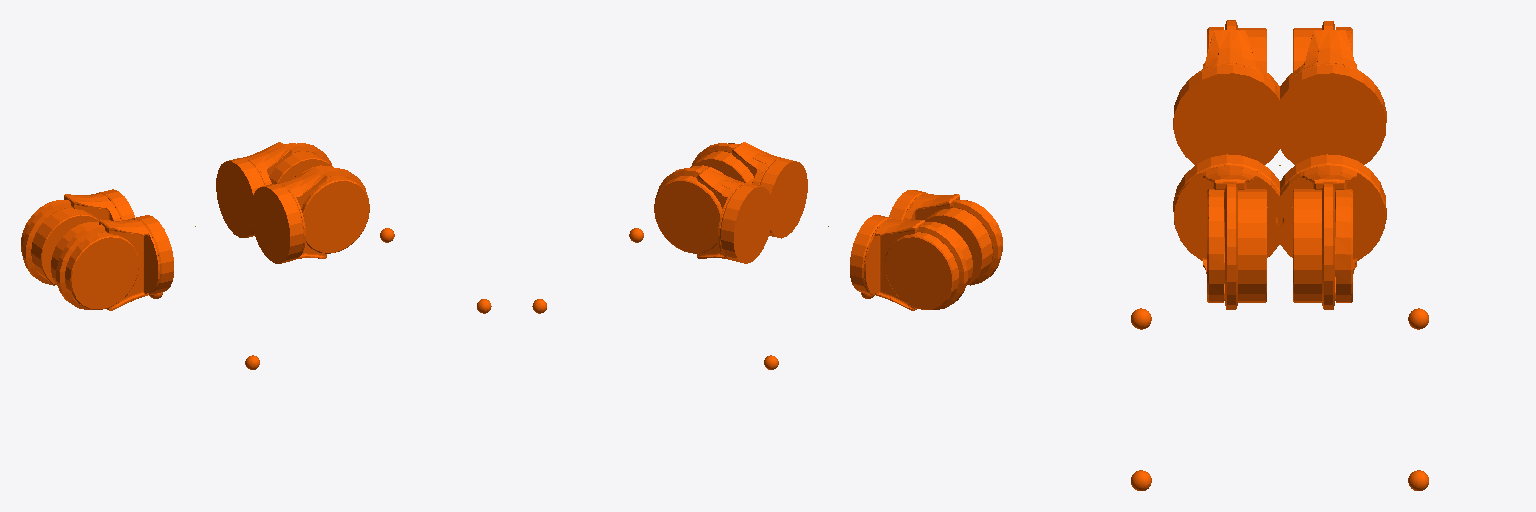
--- Facts derived from the render (not from the file) ---
3 views of the same robot in one strip: view 1: azimuth 30°, elevation 25°; view 2: azimuth 150°, elevation 25°; view 3: azimuth 270°, elevation 25° (orthographic).
Robot: a1 — 23 links, 22 joints (12 revolute, 10 fixed); root link base; default pose: joints at zero except 4 at the middle of their limits (FR_calf_joint = -1.81, FL_calf_joint = -1.81, RR_calf_joint = -1.81, RL_calf_joint = -1.81).
Visible links, largest first — view 1: RR_hip, FR_hip, FL_hip, RL_hip; view 2: RL_hip, FL_hip, FR_hip, RR_hip; view 3: FR_hip, FL_hip, RR_hip, RL_hip.
Link boxes in pixels (x1,y1,x2,y2): RR_hip: [51, 215, 173, 310]; FR_hip: [251, 165, 369, 263]; FL_hip: [216, 142, 333, 237]; RL_hip: [21, 189, 134, 285]; RL_hip: [850, 215, 972, 310]; FL_hip: [654, 165, 772, 263]; FR_hip: [690, 142, 807, 238]; RR_hip: [889, 190, 1002, 285]; FR_hip: [1173, 154, 1292, 309]; FL_hip: [1267, 154, 1386, 309]; RR_hip: [1173, 20, 1286, 164]; RL_hip: [1274, 21, 1386, 164].
Size in the robot's own frame: 0.6254 by 0.2816 by 0.2264 metres.
4 mesh visuals loaded from 5 distinct referenced files (1 Collada DAE); not drawn: 9 (reference not matched to a file when rendering).

The robot description file, URDF, robot "a1":
<?xml version="1.0" encoding="utf-8"?>
<!-- =================================================================================== -->
<!-- |    This document was autogenerated by xacro from robot.xacro                    | -->
<!-- |    EDITING THIS FILE BY HAND IS NOT RECOMMENDED                                 | -->
<!-- =================================================================================== -->
<robot name="a1">
  <!-- dynamics inertial value -->
  <!-- trunk -->
  <!-- <xacro:property name="trunk_mass" value="5.660"/>
    <xacro:property name="trunk_com_x" value="0.012731"/>
    <xacro:property name="trunk_com_y" value="0.002186"/>
    <xacro:property name="trunk_com_z" value="0.000515"/>
    <xacro:property name="trunk_ixx" value="0.016839930"/>
    <xacro:property name="trunk_ixy" value="0.000083902"/>
    <xacro:property name="trunk_ixz" value="0.000597679"/>
    <xacro:property name="trunk_iyy" value="0.056579028"/>
    <xacro:property name="trunk_iyz" value="0.000025134"/>
    <xacro:property name="trunk_izz" value="0.064713601"/> -->
  <material name="black">
    <color rgba="0.0 0.0 0.0 1.0"/>
  </material>
  <material name="blue">
    <color rgba="0.0 0.0 0.8 1.0"/>
  </material>
  <material name="green">
    <color rgba="0.0 0.8 0.0 1.0"/>
  </material>
  <material name="grey">
    <color rgba="0.2 0.2 0.2 1.0"/>
  </material>
  <material name="silver">
    <color rgba="0.913725490196 0.913725490196 0.847058823529 1.0"/>
  </material>
  <material name="orange">
    <color rgba="1.0 0.423529411765 0.0392156862745 1.0"/>
  </material>
  <material name="brown">
    <color rgba="0.870588235294 0.811764705882 0.764705882353 1.0"/>
  </material>
  <material name="red">
    <color rgba="0.8 0.0 0.0 1.0"/>
  </material>
  <material name="white">
    <color rgba="1.0 1.0 1.0 1.0"/>
  </material>
  
  <link name="base">
    <visual>
      <origin rpy="0 0 0" xyz="0 0 0"/>
      <geometry>
        <box size="0.001 0.001 0.001"/>
      </geometry>
    </visual>
  </link>
  <joint name="floating_base" type="fixed">
    <origin rpy="0 0 0" xyz="0 0 0"/>
    <parent link="base"/>
    <child link="trunk"/>
  </joint>
  <link name="trunk">
    <visual>
      <origin rpy="0 0 0" xyz="0 0 0"/>
      <geometry>
        <mesh filename="package://a1_description/meshes/trunk.dae" scale="1 1 1"/>
      </geometry>
      <material name="orange"/>
    </visual>
    <collision>
      <origin rpy="0 0 0" xyz="0 0 0"/>
      <geometry>
        <box size="0.267 0.194 0.114"/>
      </geometry>
    </collision>
    <inertial>
      <origin rpy="0 0 0" xyz="0.0 0.0041 -0.0005"/>
      <mass value="6.0"/>
      <inertia ixx="0.0158533" ixy="-3.66e-05" ixz="-6.11e-05" iyy="0.0377999" iyz="-2.75e-05" izz="0.0456542"/>
    </inertial>
  </link>
  <joint name="imu_joint" type="fixed">
    <parent link="trunk"/>
    <child link="imu_link"/>
    <origin rpy="0 0 0" xyz="0 0 0"/>
  </joint>
  <link name="imu_link">
    <inertial>
      <mass value="0.001"/>
      <origin rpy="0 0 0" xyz="0 0 0"/>
      <inertia ixx="0.0001" ixy="0" ixz="0" iyy="0.0001" iyz="0" izz="0.0001"/>
    </inertial>
    <visual>
      <origin rpy="0 0 0" xyz="0 0 0"/>
      <geometry>
        <box size="0.001 0.001 0.001"/>
      </geometry>
      <material name="red"/>
    </visual>
    <collision>
      <origin rpy="0 0 0" xyz="0 0 0"/>
      <geometry>
        <box size=".001 .001 .001"/>
      </geometry>
    </collision>
  </link>
  <joint name="FR_hip_joint" type="revolute">
    <origin rpy="0 0 0" xyz="0.1805 -0.047 0"/>
    <parent link="trunk"/>
    <child link="FR_hip"/>
    <axis xyz="1 0 0"/>
    <dynamics damping="0.01" friction="0.2"/>
    <limit effort="33.5" lower="-0.802851455917" upper="0.802851455917" velocity="21"/>
  </joint>
  <link name="FR_hip">
    <visual>
      <origin rpy="3.14159265359 0 0" xyz="0 0 0"/>
      <geometry>
        <mesh filename="package://a1_description/meshes/hip.dae" scale="1 1 1"/>
      </geometry>
      <material name="orange"/>
    </visual>
    <collision>
      <origin rpy="1.57079632679 0 0" xyz="0 0 0"/>
      <geometry>
        <cylinder length="0.04" radius="0.046"/>
      </geometry>
    </collision>
    <inertial>
      <origin rpy="0 0 0" xyz="-0.003311 -0.000635 3.1e-05"/>
      <mass value="0.696"/>
      <inertia ixx="0.000469246" ixy="9.409e-06" ixz="-3.42e-07" iyy="0.00080749" iyz="4.66e-07" izz="0.000552929"/>
    </inertial>
  </link>
  <joint name="FR_hip_fixed" type="fixed">
    <origin rpy="0 0 0" xyz="0 -0.081 0"/>
    <parent link="FR_hip"/>
    <child link="FR_thigh_shoulder"/>
  </joint>
  <!-- this link is only for collision -->
  <link name="FR_thigh_shoulder">
    <collision>
      <origin rpy="1.57079632679 0 0" xyz="0 0 0"/>
      <geometry>
        <cylinder length="0.032" radius="0.041"/>
      </geometry>
    </collision>
  </link>
  <joint name="FR_thigh_joint" type="revolute">
    <origin rpy="0 0 0" xyz="0 -0.0838 0"/>
    <parent link="FR_hip"/>
    <child link="FR_thigh"/>
    <axis xyz="0 1 0"/>
    <dynamics damping="0.01" friction="0.2"/>
    <limit effort="33.5" lower="-1.0471975512" upper="4.18879020479" velocity="21"/>
  </joint>
  <link name="FR_thigh">
    <visual>
      <origin rpy="0 0 0" xyz="0 0 0"/>
      <geometry>
        <mesh filename="package://a1_description/meshes/thigh_mirror.dae" scale="1 1 1"/>
      </geometry>
      <material name="orange"/>
    </visual>
    <collision>
      <origin rpy="0 1.57079632679 0" xyz="0 0 -0.1"/>
      <geometry>
        <box size="0.2 0.0245 0.034"/>
      </geometry>
    </collision>
    <inertial>
      <origin rpy="0 0 0" xyz="-0.003237 0.022327 -0.027326"/>
      <mass value="1.013"/>
      <inertia ixx="0.005529065" ixy="-4.825e-06" ixz="0.000343869" iyy="0.005139339" iyz="-2.2448e-05" izz="0.001367788"/>
    </inertial>
  </link>
  <joint name="FR_calf_joint" type="revolute">
    <origin rpy="0 0 0" xyz="0 0 -0.2"/>
    <parent link="FR_thigh"/>
    <child link="FR_calf"/>
    <axis xyz="0 1 0"/>
    <dynamics damping="0.01" friction="0.2"/>
    <limit effort="33.5" lower="-2.69653369433" upper="-0.916297857297" velocity="21"/>
  </joint>
  <link name="FR_calf">
    <visual>
      <origin rpy="0 0 0" xyz="0 0 0"/>
      <geometry>
        <mesh filename="package://a1_description/meshes/calf.dae" scale="1 1 1"/>
      </geometry>
      <material name="orange"/>
    </visual>
    <collision>
      <origin rpy="0 1.57079632679 0" xyz="0 0 -0.1"/>
      <geometry>
        <box size="0.2 0.016 0.016"/>
      </geometry>
    </collision>
    <inertial>
      <origin rpy="0 0 0" xyz="0.006435 0.0 -0.107388"/>
      <mass value="0.166"/>
      <inertia ixx="0.002997972" ixy="0.0" ixz="-0.000141163" iyy="0.003014022" iyz="0.0" izz="3.2426e-05"/>
    </inertial>
  </link>
  <joint name="FR_foot_fixed" type="fixed">
    <origin rpy="0 0 0" xyz="0 0 -0.2"/>
    <parent link="FR_calf"/>
    <child link="FR_foot"/>
  </joint>
  <link name="FR_foot">
    <visual>
      <origin rpy="0 0 0" xyz="0 0 0"/>
      <geometry>
        <sphere radius="0.01"/>
      </geometry>
      <material name="orange"/>
    </visual>
    <collision>
      <origin rpy="0 0 0" xyz="0 0 0"/>
      <geometry>
        <sphere radius="0.02"/>
      </geometry>
    </collision>
    <inertial>
      <mass value="0.06"/>
      <inertia ixx="9.6e-06" ixy="0.0" ixz="0.0" iyy="9.6e-06" iyz="0.0" izz="9.6e-06"/>
    </inertial>
  </link>
  <transmission name="FR_hip_tran">
    <type>transmission_interface/SimpleTransmission</type>
    <joint name="FR_hip_joint">
      <hardwareInterface>hardware_interface/EffortJointInterface</hardwareInterface>
    </joint>
    <actuator name="FR_hip_motor">
      <hardwareInterface>hardware_interface/EffortJointInterface</hardwareInterface>
      <mechanicalReduction>1</mechanicalReduction>
    </actuator>
  </transmission>
  <transmission name="FR_thigh_tran">
    <type>transmission_interface/SimpleTransmission</type>
    <joint name="FR_thigh_joint">
      <hardwareInterface>hardware_interface/EffortJointInterface</hardwareInterface>
    </joint>
    <actuator name="FR_thigh_motor">
      <hardwareInterface>hardware_interface/EffortJointInterface</hardwareInterface>
      <mechanicalReduction>1</mechanicalReduction>
    </actuator>
  </transmission>
  <transmission name="FR_calf_tran">
    <type>transmission_interface/SimpleTransmission</type>
    <joint name="FR_calf_joint">
      <hardwareInterface>hardware_interface/EffortJointInterface</hardwareInterface>
    </joint>
    <actuator name="FR_calf_motor">
      <hardwareInterface>hardware_interface/EffortJointInterface</hardwareInterface>
      <mechanicalReduction>1</mechanicalReduction>
    </actuator>
  </transmission>
  <joint name="FL_hip_joint" type="revolute">
    <origin rpy="0 0 0" xyz="0.1805 0.047 0"/>
    <parent link="trunk"/>
    <child link="FL_hip"/>
    <axis xyz="1 0 0"/>
    <dynamics damping="0.01" friction="0.2"/>
    <limit effort="33.5" lower="-0.802851455917" upper="0.802851455917" velocity="21"/>
  </joint>
  <link name="FL_hip">
    <visual>
      <origin rpy="0 0 0" xyz="0 0 0"/>
      <geometry>
        <mesh filename="package://a1_description/meshes/hip.dae" scale="1 1 1"/>
      </geometry>
      <material name="orange"/>
    </visual>
    <collision>
      <origin rpy="1.57079632679 0 0" xyz="0 0 0"/>
      <geometry>
        <cylinder length="0.04" radius="0.046"/>
      </geometry>
    </collision>
    <inertial>
      <origin rpy="0 0 0" xyz="-0.003311 0.000635 3.1e-05"/>
      <mass value="0.696"/>
      <inertia ixx="0.000469246" ixy="-9.409e-06" ixz="-3.42e-07" iyy="0.00080749" iyz="-4.66e-07" izz="0.000552929"/>
    </inertial>
  </link>
  <joint name="FL_hip_fixed" type="fixed">
    <origin rpy="0 0 0" xyz="0 0.081 0"/>
    <parent link="FL_hip"/>
    <child link="FL_thigh_shoulder"/>
  </joint>
  <!-- this link is only for collision -->
  <link name="FL_thigh_shoulder">
    <collision>
      <origin rpy="1.57079632679 0 0" xyz="0 0 0"/>
      <geometry>
        <cylinder length="0.032" radius="0.041"/>
      </geometry>
    </collision>
  </link>
  <joint name="FL_thigh_joint" type="revolute">
    <origin rpy="0 0 0" xyz="0 0.0838 0"/>
    <parent link="FL_hip"/>
    <child link="FL_thigh"/>
    <axis xyz="0 1 0"/>
    <dynamics damping="0.01" friction="0.2"/>
    <limit effort="33.5" lower="-1.0471975512" upper="4.18879020479" velocity="21"/>
  </joint>
  <link name="FL_thigh">
    <visual>
      <origin rpy="0 0 0" xyz="0 0 0"/>
      <geometry>
        <mesh filename="package://a1_description/meshes/thigh.dae" scale="1 1 1"/>
      </geometry>
      <material name="orange"/>
    </visual>
    <collision>
      <origin rpy="0 1.57079632679 0" xyz="0 0 -0.1"/>
      <geometry>
        <box size="0.2 0.0245 0.034"/>
      </geometry>
    </collision>
    <inertial>
      <origin rpy="0 0 0" xyz="-0.003237 -0.022327 -0.027326"/>
      <mass value="1.013"/>
      <inertia ixx="0.005529065" ixy="4.825e-06" ixz="0.000343869" iyy="0.005139339" iyz="2.2448e-05" izz="0.001367788"/>
    </inertial>
  </link>
  <joint name="FL_calf_joint" type="revolute">
    <origin rpy="0 0 0" xyz="0 0 -0.2"/>
    <parent link="FL_thigh"/>
    <child link="FL_calf"/>
    <axis xyz="0 1 0"/>
    <dynamics damping="0.01" friction="0.2"/>
    <limit effort="33.5" lower="-2.69653369433" upper="-0.916297857297" velocity="21"/>
  </joint>
  <link name="FL_calf">
    <visual>
      <origin rpy="0 0 0" xyz="0 0 0"/>
      <geometry>
        <mesh filename="package://a1_description/meshes/calf.dae" scale="1 1 1"/>
      </geometry>
      <material name="orange"/>
    </visual>
    <collision>
      <origin rpy="0 1.57079632679 0" xyz="0 0 -0.1"/>
      <geometry>
        <box size="0.2 0.016 0.016"/>
      </geometry>
    </collision>
    <inertial>
      <origin rpy="0 0 0" xyz="0.006435 0.0 -0.107388"/>
      <mass value="0.166"/>
      <inertia ixx="0.002997972" ixy="0.0" ixz="-0.000141163" iyy="0.003014022" iyz="0.0" izz="3.2426e-05"/>
    </inertial>
  </link>
  <joint name="FL_foot_fixed" type="fixed">
    <origin rpy="0 0 0" xyz="0 0 -0.2"/>
    <parent link="FL_calf"/>
    <child link="FL_foot"/>
  </joint>
  <link name="FL_foot">
    <visual>
      <origin rpy="0 0 0" xyz="0 0 0"/>
      <geometry>
        <sphere radius="0.01"/>
      </geometry>
      <material name="orange"/>
    </visual>
    <collision>
      <origin rpy="0 0 0" xyz="0 0 0"/>
      <geometry>
        <sphere radius="0.02"/>
      </geometry>
    </collision>
    <inertial>
      <mass value="0.06"/>
      <inertia ixx="9.6e-06" ixy="0.0" ixz="0.0" iyy="9.6e-06" iyz="0.0" izz="9.6e-06"/>
    </inertial>
  </link>
  <transmission name="FL_hip_tran">
    <type>transmission_interface/SimpleTransmission</type>
    <joint name="FL_hip_joint">
      <hardwareInterface>hardware_interface/EffortJointInterface</hardwareInterface>
    </joint>
    <actuator name="FL_hip_motor">
      <hardwareInterface>hardware_interface/EffortJointInterface</hardwareInterface>
      <mechanicalReduction>1</mechanicalReduction>
    </actuator>
  </transmission>
  <transmission name="FL_thigh_tran">
    <type>transmission_interface/SimpleTransmission</type>
    <joint name="FL_thigh_joint">
      <hardwareInterface>hardware_interface/EffortJointInterface</hardwareInterface>
    </joint>
    <actuator name="FL_thigh_motor">
      <hardwareInterface>hardware_interface/EffortJointInterface</hardwareInterface>
      <mechanicalReduction>1</mechanicalReduction>
    </actuator>
  </transmission>
  <transmission name="FL_calf_tran">
    <type>transmission_interface/SimpleTransmission</type>
    <joint name="FL_calf_joint">
      <hardwareInterface>hardware_interface/EffortJointInterface</hardwareInterface>
    </joint>
    <actuator name="FL_calf_motor">
      <hardwareInterface>hardware_interface/EffortJointInterface</hardwareInterface>
      <mechanicalReduction>1</mechanicalReduction>
    </actuator>
  </transmission>
  <joint name="RR_hip_joint" type="revolute">
    <origin rpy="0 0 0" xyz="-0.1805 -0.047 0"/>
    <parent link="trunk"/>
    <child link="RR_hip"/>
    <axis xyz="1 0 0"/>
    <dynamics damping="0.01" friction="0.2"/>
    <limit effort="33.5" lower="-0.802851455917" upper="0.802851455917" velocity="21"/>
  </joint>
  <link name="RR_hip">
    <visual>
      <origin rpy="3.14159265359 3.14159265359 0" xyz="0 0 0"/>
      <geometry>
        <mesh filename="package://a1_description/meshes/hip.dae" scale="1 1 1"/>
      </geometry>
      <material name="orange"/>
    </visual>
    <collision>
      <origin rpy="1.57079632679 0 0" xyz="0 0 0"/>
      <geometry>
        <cylinder length="0.04" radius="0.046"/>
      </geometry>
    </collision>
    <inertial>
      <origin rpy="0 0 0" xyz="0.003311 -0.000635 3.1e-05"/>
      <mass value="0.696"/>
      <inertia ixx="0.000469246" ixy="-9.409e-06" ixz="3.42e-07" iyy="0.00080749" iyz="4.66e-07" izz="0.000552929"/>
    </inertial>
  </link>
  <joint name="RR_hip_fixed" type="fixed">
    <origin rpy="0 0 0" xyz="0 -0.081 0"/>
    <parent link="RR_hip"/>
    <child link="RR_thigh_shoulder"/>
  </joint>
  <!-- this link is only for collision -->
  <link name="RR_thigh_shoulder">
    <collision>
      <origin rpy="1.57079632679 0 0" xyz="0 0 0"/>
      <geometry>
        <cylinder length="0.032" radius="0.041"/>
      </geometry>
    </collision>
  </link>
  <joint name="RR_thigh_joint" type="revolute">
    <origin rpy="0 0 0" xyz="0 -0.0838 0"/>
    <parent link="RR_hip"/>
    <child link="RR_thigh"/>
    <axis xyz="0 1 0"/>
    <dynamics damping="0.01" friction="0.2"/>
    <limit effort="33.5" lower="-1.0471975512" upper="4.18879020479" velocity="21"/>
  </joint>
  <link name="RR_thigh">
    <visual>
      <origin rpy="0 0 0" xyz="0 0 0"/>
      <geometry>
        <mesh filename="package://a1_description/meshes/thigh_mirror.dae" scale="1 1 1"/>
      </geometry>
      <material name="orange"/>
    </visual>
    <collision>
      <origin rpy="0 1.57079632679 0" xyz="0 0 -0.1"/>
      <geometry>
        <box size="0.2 0.0245 0.034"/>
      </geometry>
    </collision>
    <inertial>
      <origin rpy="0 0 0" xyz="-0.003237 0.022327 -0.027326"/>
      <mass value="1.013"/>
      <inertia ixx="0.005529065" ixy="-4.825e-06" ixz="0.000343869" iyy="0.005139339" iyz="-2.2448e-05" izz="0.001367788"/>
    </inertial>
  </link>
  <joint name="RR_calf_joint" type="revolute">
    <origin rpy="0 0 0" xyz="0 0 -0.2"/>
    <parent link="RR_thigh"/>
    <child link="RR_calf"/>
    <axis xyz="0 1 0"/>
    <dynamics damping="0.01" friction="0.2"/>
    <limit effort="33.5" lower="-2.69653369433" upper="-0.916297857297" velocity="21"/>
  </joint>
  <link name="RR_calf">
    <visual>
      <origin rpy="0 0 0" xyz="0 0 0"/>
      <geometry>
        <mesh filename="package://a1_description/meshes/calf.dae" scale="1 1 1"/>
      </geometry>
      <material name="orange"/>
    </visual>
    <collision>
      <origin rpy="0 1.57079632679 0" xyz="0 0 -0.1"/>
      <geometry>
        <box size="0.2 0.016 0.016"/>
      </geometry>
    </collision>
    <inertial>
      <origin rpy="0 0 0" xyz="0.006435 0.0 -0.107388"/>
      <mass value="0.166"/>
      <inertia ixx="0.002997972" ixy="0.0" ixz="-0.000141163" iyy="0.003014022" iyz="0.0" izz="3.2426e-05"/>
    </inertial>
  </link>
  <joint name="RR_foot_fixed" type="fixed">
    <origin rpy="0 0 0" xyz="0 0 -0.2"/>
    <parent link="RR_calf"/>
    <child link="RR_foot"/>
  </joint>
  <link name="RR_foot">
    <visual>
      <origin rpy="0 0 0" xyz="0 0 0"/>
      <geometry>
        <sphere radius="0.01"/>
      </geometry>
      <material name="orange"/>
    </visual>
    <collision>
      <origin rpy="0 0 0" xyz="0 0 0"/>
      <geometry>
        <sphere radius="0.02"/>
      </geometry>
    </collision>
    <inertial>
      <mass value="0.06"/>
      <inertia ixx="9.6e-06" ixy="0.0" ixz="0.0" iyy="9.6e-06" iyz="0.0" izz="9.6e-06"/>
    </inertial>
  </link>
  <transmission name="RR_hip_tran">
    <type>transmission_interface/SimpleTransmission</type>
    <joint name="RR_hip_joint">
      <hardwareInterface>hardware_interface/EffortJointInterface</hardwareInterface>
    </joint>
    <actuator name="RR_hip_motor">
      <hardwareInterface>hardware_interface/EffortJointInterface</hardwareInterface>
      <mechanicalReduction>1</mechanicalReduction>
    </actuator>
  </transmission>
  <transmission name="RR_thigh_tran">
    <type>transmission_interface/SimpleTransmission</type>
    <joint name="RR_thigh_joint">
      <hardwareInterface>hardware_interface/EffortJointInterface</hardwareInterface>
    </joint>
    <actuator name="RR_thigh_motor">
      <hardwareInterface>hardware_interface/EffortJointInterface</hardwareInterface>
      <mechanicalReduction>1</mechanicalReduction>
    </actuator>
  </transmission>
  <transmission name="RR_calf_tran">
    <type>transmission_interface/SimpleTransmission</type>
    <joint name="RR_calf_joint">
      <hardwareInterface>hardware_interface/EffortJointInterface</hardwareInterface>
    </joint>
    <actuator name="RR_calf_motor">
      <hardwareInterface>hardware_interface/EffortJointInterface</hardwareInterface>
      <mechanicalReduction>1</mechanicalReduction>
    </actuator>
  </transmission>
  <joint name="RL_hip_joint" type="revolute">
    <origin rpy="0 0 0" xyz="-0.1805 0.047 0"/>
    <parent link="trunk"/>
    <child link="RL_hip"/>
    <axis xyz="1 0 0"/>
    <dynamics damping="0.01" friction="0.2"/>
    <limit effort="33.5" lower="-0.802851455917" upper="0.802851455917" velocity="21"/>
  </joint>
  <link name="RL_hip">
    <visual>
      <origin rpy="0 3.14159265359 0" xyz="0 0 0"/>
      <geometry>
        <mesh filename="package://a1_description/meshes/hip.dae" scale="1 1 1"/>
      </geometry>
      <material name="orange"/>
    </visual>
    <collision>
      <origin rpy="1.57079632679 0 0" xyz="0 0 0"/>
      <geometry>
        <cylinder length="0.04" radius="0.046"/>
      </geometry>
    </collision>
    <inertial>
      <origin rpy="0 0 0" xyz="0.003311 0.000635 3.1e-05"/>
      <mass value="0.696"/>
      <inertia ixx="0.000469246" ixy="9.409e-06" ixz="3.42e-07" iyy="0.00080749" iyz="-4.66e-07" izz="0.000552929"/>
    </inertial>
  </link>
  <joint name="RL_hip_fixed" type="fixed">
    <origin rpy="0 0 0" xyz="0 0.081 0"/>
    <parent link="RL_hip"/>
    <child link="RL_thigh_shoulder"/>
  </joint>
  <!-- this link is only for collision -->
  <link name="RL_thigh_shoulder">
    <collision>
      <origin rpy="1.57079632679 0 0" xyz="0 0 0"/>
      <geometry>
        <cylinder length="0.032" radius="0.041"/>
      </geometry>
    </collision>
  </link>
  <joint name="RL_thigh_joint" type="revolute">
    <origin rpy="0 0 0" xyz="0 0.0838 0"/>
    <parent link="RL_hip"/>
    <child link="RL_thigh"/>
    <axis xyz="0 1 0"/>
    <dynamics damping="0.01" friction="0.2"/>
    <limit effort="33.5" lower="-1.0471975512" upper="4.18879020479" velocity="21"/>
  </joint>
  <link name="RL_thigh">
    <visual>
      <origin rpy="0 0 0" xyz="0 0 0"/>
      <geometry>
        <mesh filename="package://a1_description/meshes/thigh.dae" scale="1 1 1"/>
      </geometry>
      <material name="orange"/>
    </visual>
    <collision>
      <origin rpy="0 1.57079632679 0" xyz="0 0 -0.1"/>
      <geometry>
        <box size="0.2 0.0245 0.034"/>
      </geometry>
    </collision>
    <inertial>
      <origin rpy="0 0 0" xyz="-0.003237 -0.022327 -0.027326"/>
      <mass value="1.013"/>
      <inertia ixx="0.005529065" ixy="4.825e-06" ixz="0.000343869" iyy="0.005139339" iyz="2.2448e-05" izz="0.001367788"/>
    </inertial>
  </link>
  <joint name="RL_calf_joint" type="revolute">
    <origin rpy="0 0 0" xyz="0 0 -0.2"/>
    <parent link="RL_thigh"/>
    <child link="RL_calf"/>
    <axis xyz="0 1 0"/>
    <dynamics damping="0.01" friction="0.2"/>
    <limit effort="33.5" lower="-2.69653369433" upper="-0.916297857297" velocity="21"/>
  </joint>
  <link name="RL_calf">
    <visual>
      <origin rpy="0 0 0" xyz="0 0 0"/>
      <geometry>
        <mesh filename="package://a1_description/meshes/calf.dae" scale="1 1 1"/>
      </geometry>
      <material name="orange"/>
    </visual>
    <collision>
      <origin rpy="0 1.57079632679 0" xyz="0 0 -0.1"/>
      <geometry>
        <box size="0.2 0.016 0.016"/>
      </geometry>
    </collision>
    <inertial>
      <origin rpy="0 0 0" xyz="0.006435 0.0 -0.107388"/>
      <mass value="0.166"/>
      <inertia ixx="0.002997972" ixy="0.0" ixz="-0.000141163" iyy="0.003014022" iyz="0.0" izz="3.2426e-05"/>
    </inertial>
  </link>
  <joint name="RL_foot_fixed" type="fixed">
    <origin rpy="0 0 0" xyz="0 0 -0.2"/>
    <parent link="RL_calf"/>
    <child link="RL_foot"/>
  </joint>
  <link name="RL_foot">
    <visual>
      <origin rpy="0 0 0" xyz="0 0 0"/>
      <geometry>
        <sphere radius="0.01"/>
      </geometry>
      <material name="orange"/>
    </visual>
    <collision>
      <origin rpy="0 0 0" xyz="0 0 0"/>
      <geometry>
        <sphere radius="0.02"/>
      </geometry>
    </collision>
    <inertial>
      <mass value="0.06"/>
      <inertia ixx="9.6e-06" ixy="0.0" ixz="0.0" iyy="9.6e-06" iyz="0.0" izz="9.6e-06"/>
    </inertial>
  </link>
  <transmission name="RL_hip_tran">
    <type>transmission_interface/SimpleTransmission</type>
    <joint name="RL_hip_joint">
      <hardwareInterface>hardware_interface/EffortJointInterface</hardwareInterface>
    </joint>
    <actuator name="RL_hip_motor">
      <hardwareInterface>hardware_interface/EffortJointInterface</hardwareInterface>
      <mechanicalReduction>1</mechanicalReduction>
    </actuator>
  </transmission>
  <transmission name="RL_thigh_tran">
    <type>transmission_interface/SimpleTransmission</type>
    <joint name="RL_thigh_joint">
      <hardwareInterface>hardware_interface/EffortJointInterface</hardwareInterface>
    </joint>
    <actuator name="RL_thigh_motor">
      <hardwareInterface>hardware_interface/EffortJointInterface</hardwareInterface>
      <mechanicalReduction>1</mechanicalReduction>
    </actuator>
  </transmission>
  <transmission name="RL_calf_tran">
    <type>transmission_interface/SimpleTransmission</type>
    <joint name="RL_calf_joint">
      <hardwareInterface>hardware_interface/EffortJointInterface</hardwareInterface>
    </joint>
    <actuator name="RL_calf_motor">
      <hardwareInterface>hardware_interface/EffortJointInterface</hardwareInterface>
      <mechanicalReduction>1</mechanicalReduction>
    </actuator>
  </transmission>
  <!-- <xacro:stairs stairs="15" xpos="0" ypos="2.0" zpos="0" /> -->
</robot>
